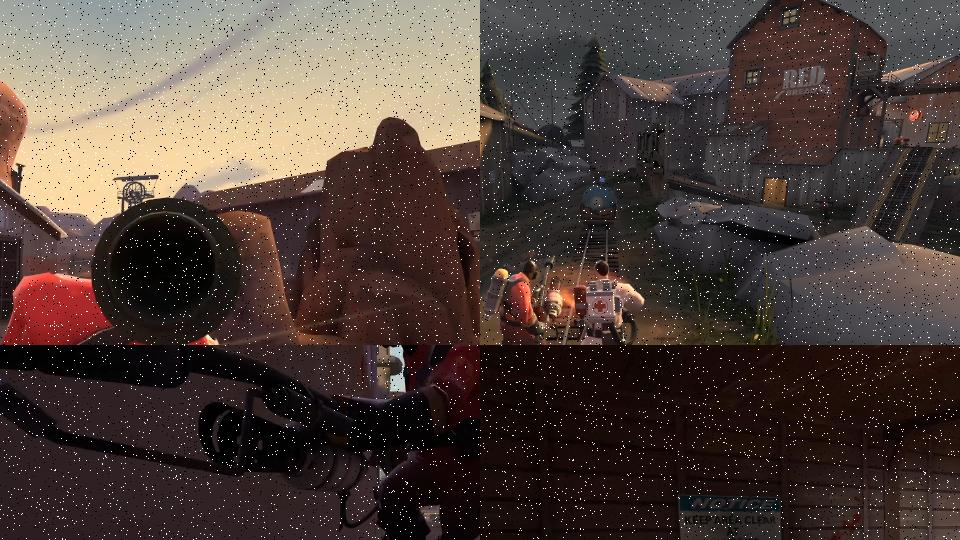Enemy: (0, 345, 480, 540), (0, 192, 300, 345), (481, 251, 565, 345), (562, 259, 653, 345)
